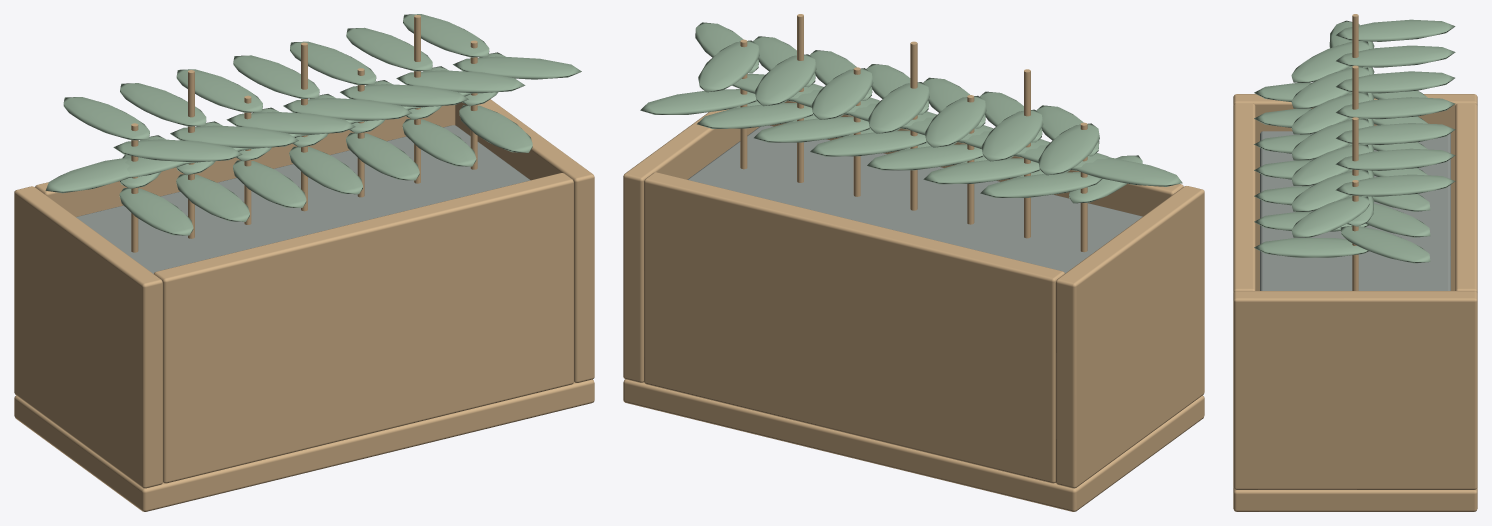
Rendered from public-library-and-reading-garden-public-library-and-r-6e159276__30946.glb.
3 renders of one model, left to right at view 1: azimuth 30°, elevation 25°; view 2: azimuth 150°, elevation 25°; view 3: azimuth 270°, elevation 25°, orthographic. The views are drawn at different scales.
Visible parts, largest first — view 1: public-library-and-reading-garden-raised-sensory-planter; view 2: public-library-and-reading-garden-raised-sensory-planter; view 3: public-library-and-reading-garden-raised-sensory-planter.
Part boxes in pixels (x1,y1,x2,y2): public-library-and-reading-garden-raised-sensory-planter: [14, 14, 594, 511]; public-library-and-reading-garden-raised-sensory-planter: [623, 14, 1204, 511]; public-library-and-reading-garden-raised-sensory-planter: [1233, 14, 1477, 511].
Bounding box in the file's own units: 1.35 × 0.93 × 0.6001.
